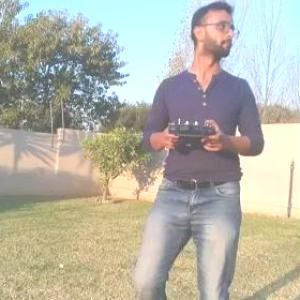follow: (130, 0, 272, 299)
